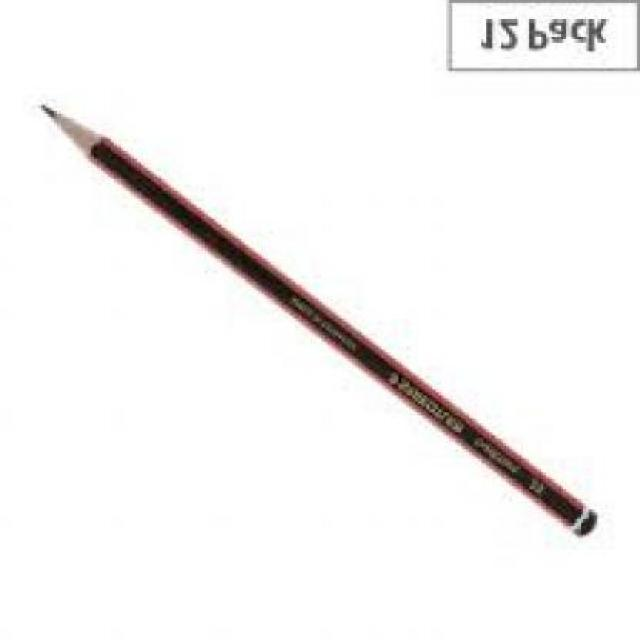Pencil: (35, 86, 159, 190)
